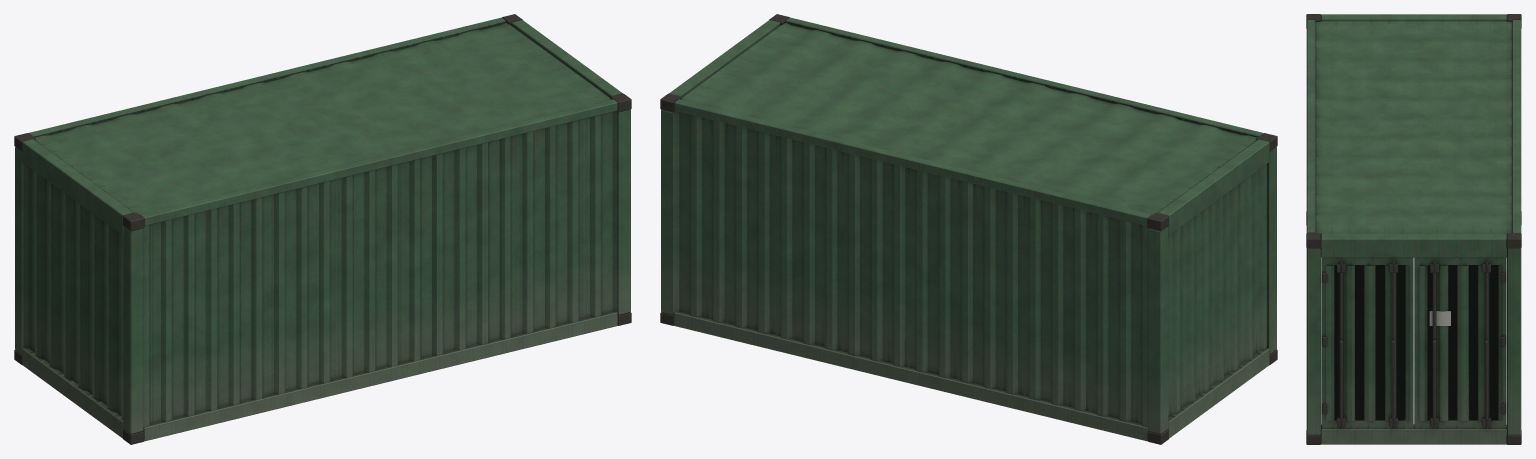
Rendered from container20_green.glb.
3 renders of one model, left to right at view 1: azimuth 30°, elevation 25°; view 2: azimuth 150°, elevation 25°; view 3: azimuth 270°, elevation 25°, orthographic. The views are drawn at different scales.
Visible parts, largest first — view 1: container20_green; view 2: container20_green; view 3: container20_green.
Boxes of the visible parts, box(x1,y1,x2,y2) form: container20_green: box(14, 14, 631, 444); container20_green: box(660, 14, 1277, 444); container20_green: box(1306, 14, 1521, 444).
Bounding box in the file's own units: 6.18 × 2.59 × 2.45.
Materials: 1 (1 with a texture image).
